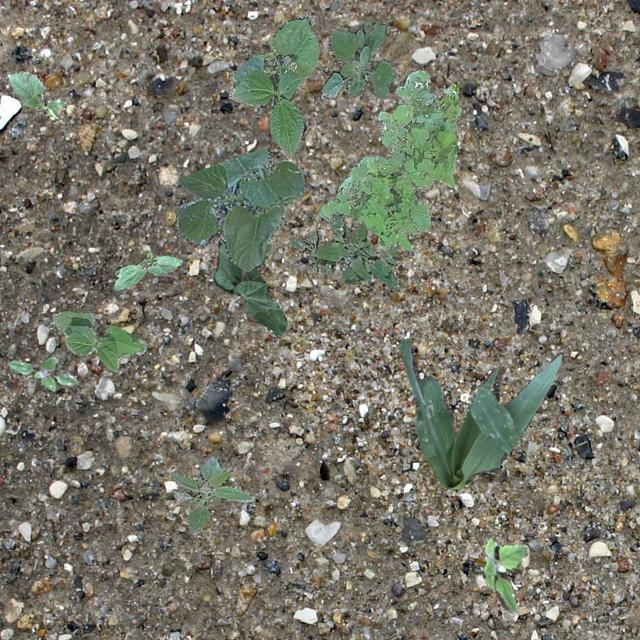crop: (398, 338, 562, 488), (175, 147, 304, 270), (228, 16, 318, 158), (212, 235, 286, 336), (52, 310, 144, 370), (5, 70, 66, 118), (112, 252, 180, 290)
weed: (318, 70, 460, 248), (288, 212, 398, 286), (168, 454, 252, 536), (320, 21, 396, 98), (482, 538, 528, 610), (7, 356, 78, 391)
